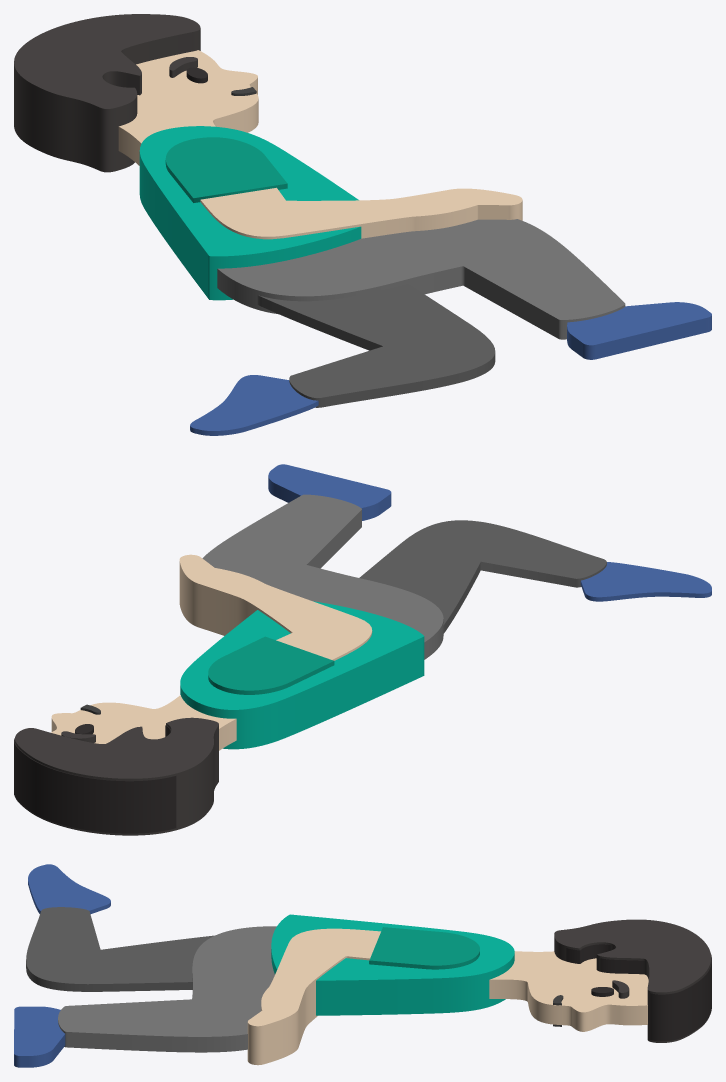
The model's file is emoji_u1f9ce_1f3fb_200d_2642_200d_27a1.glb.
3 renders of one model, top to bottom at view 1: azimuth 30°, elevation 25°; view 2: azimuth 150°, elevation 25°; view 3: azimuth 270°, elevation 25°, orthographic. The views are drawn at different scales.
Visible parts, largest first — view 1: emoji_u1f9ce_1f3fb_200d_2642_200d_27a1; view 2: emoji_u1f9ce_1f3fb_200d_2642_200d_27a1; view 3: emoji_u1f9ce_1f3fb_200d_2642_200d_27a1.
Boxes of the visible parts, x1,y1,x2,y2 form: emoji_u1f9ce_1f3fb_200d_2642_200d_27a1: (14, 14, 711, 435); emoji_u1f9ce_1f3fb_200d_2642_200d_27a1: (14, 464, 711, 835); emoji_u1f9ce_1f3fb_200d_2642_200d_27a1: (14, 864, 711, 1067).
Size of the model in its own units: 0.0215 by 0.0026 by 0.0325.
